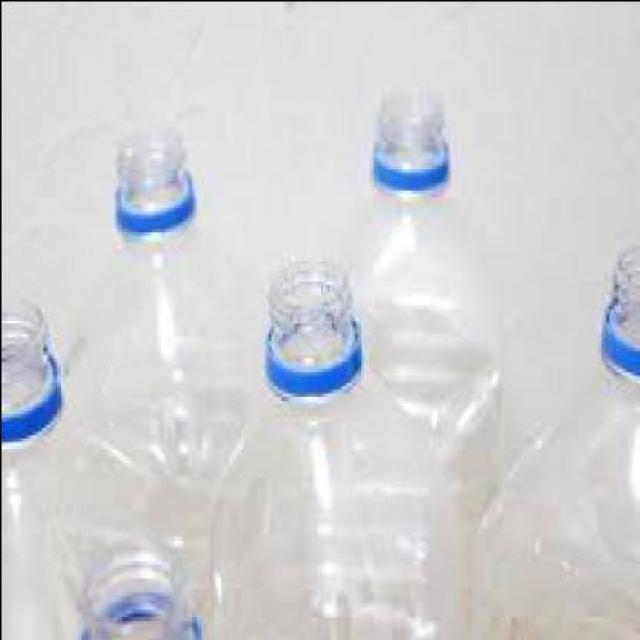PLASTIC: (198, 252, 472, 636), (65, 127, 263, 536), (342, 84, 501, 521), (468, 241, 638, 637), (2, 292, 148, 638), (64, 532, 204, 636)
